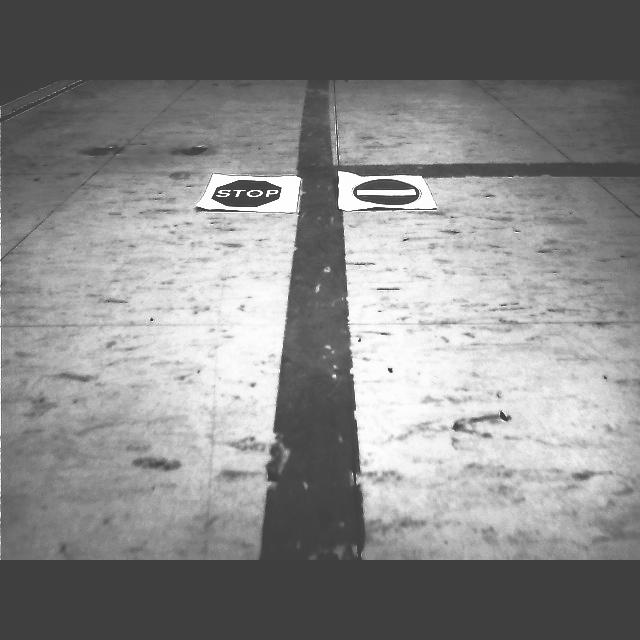NO ENTRY: (354, 178, 420, 205)
STOP: (211, 180, 281, 207)
